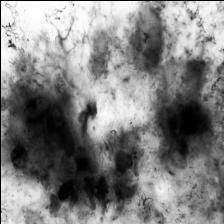Potentially Malignant Skin Tumors: (0, 0, 211, 221)
